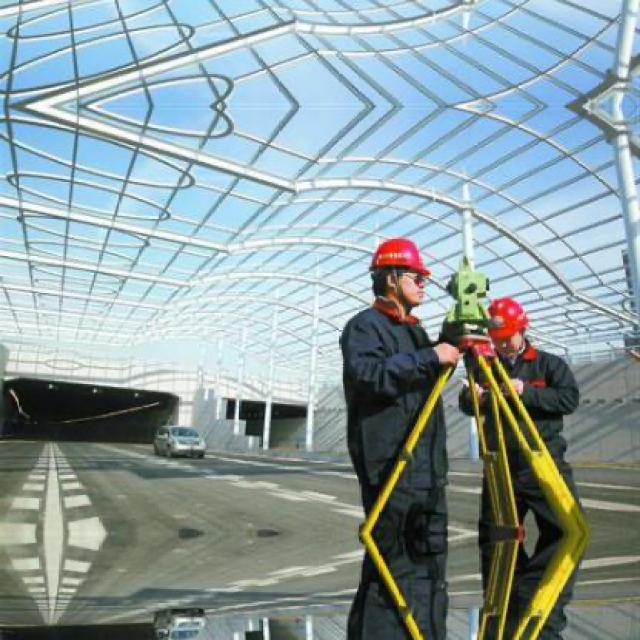helmet: (364, 233, 436, 310), (483, 295, 532, 350)
